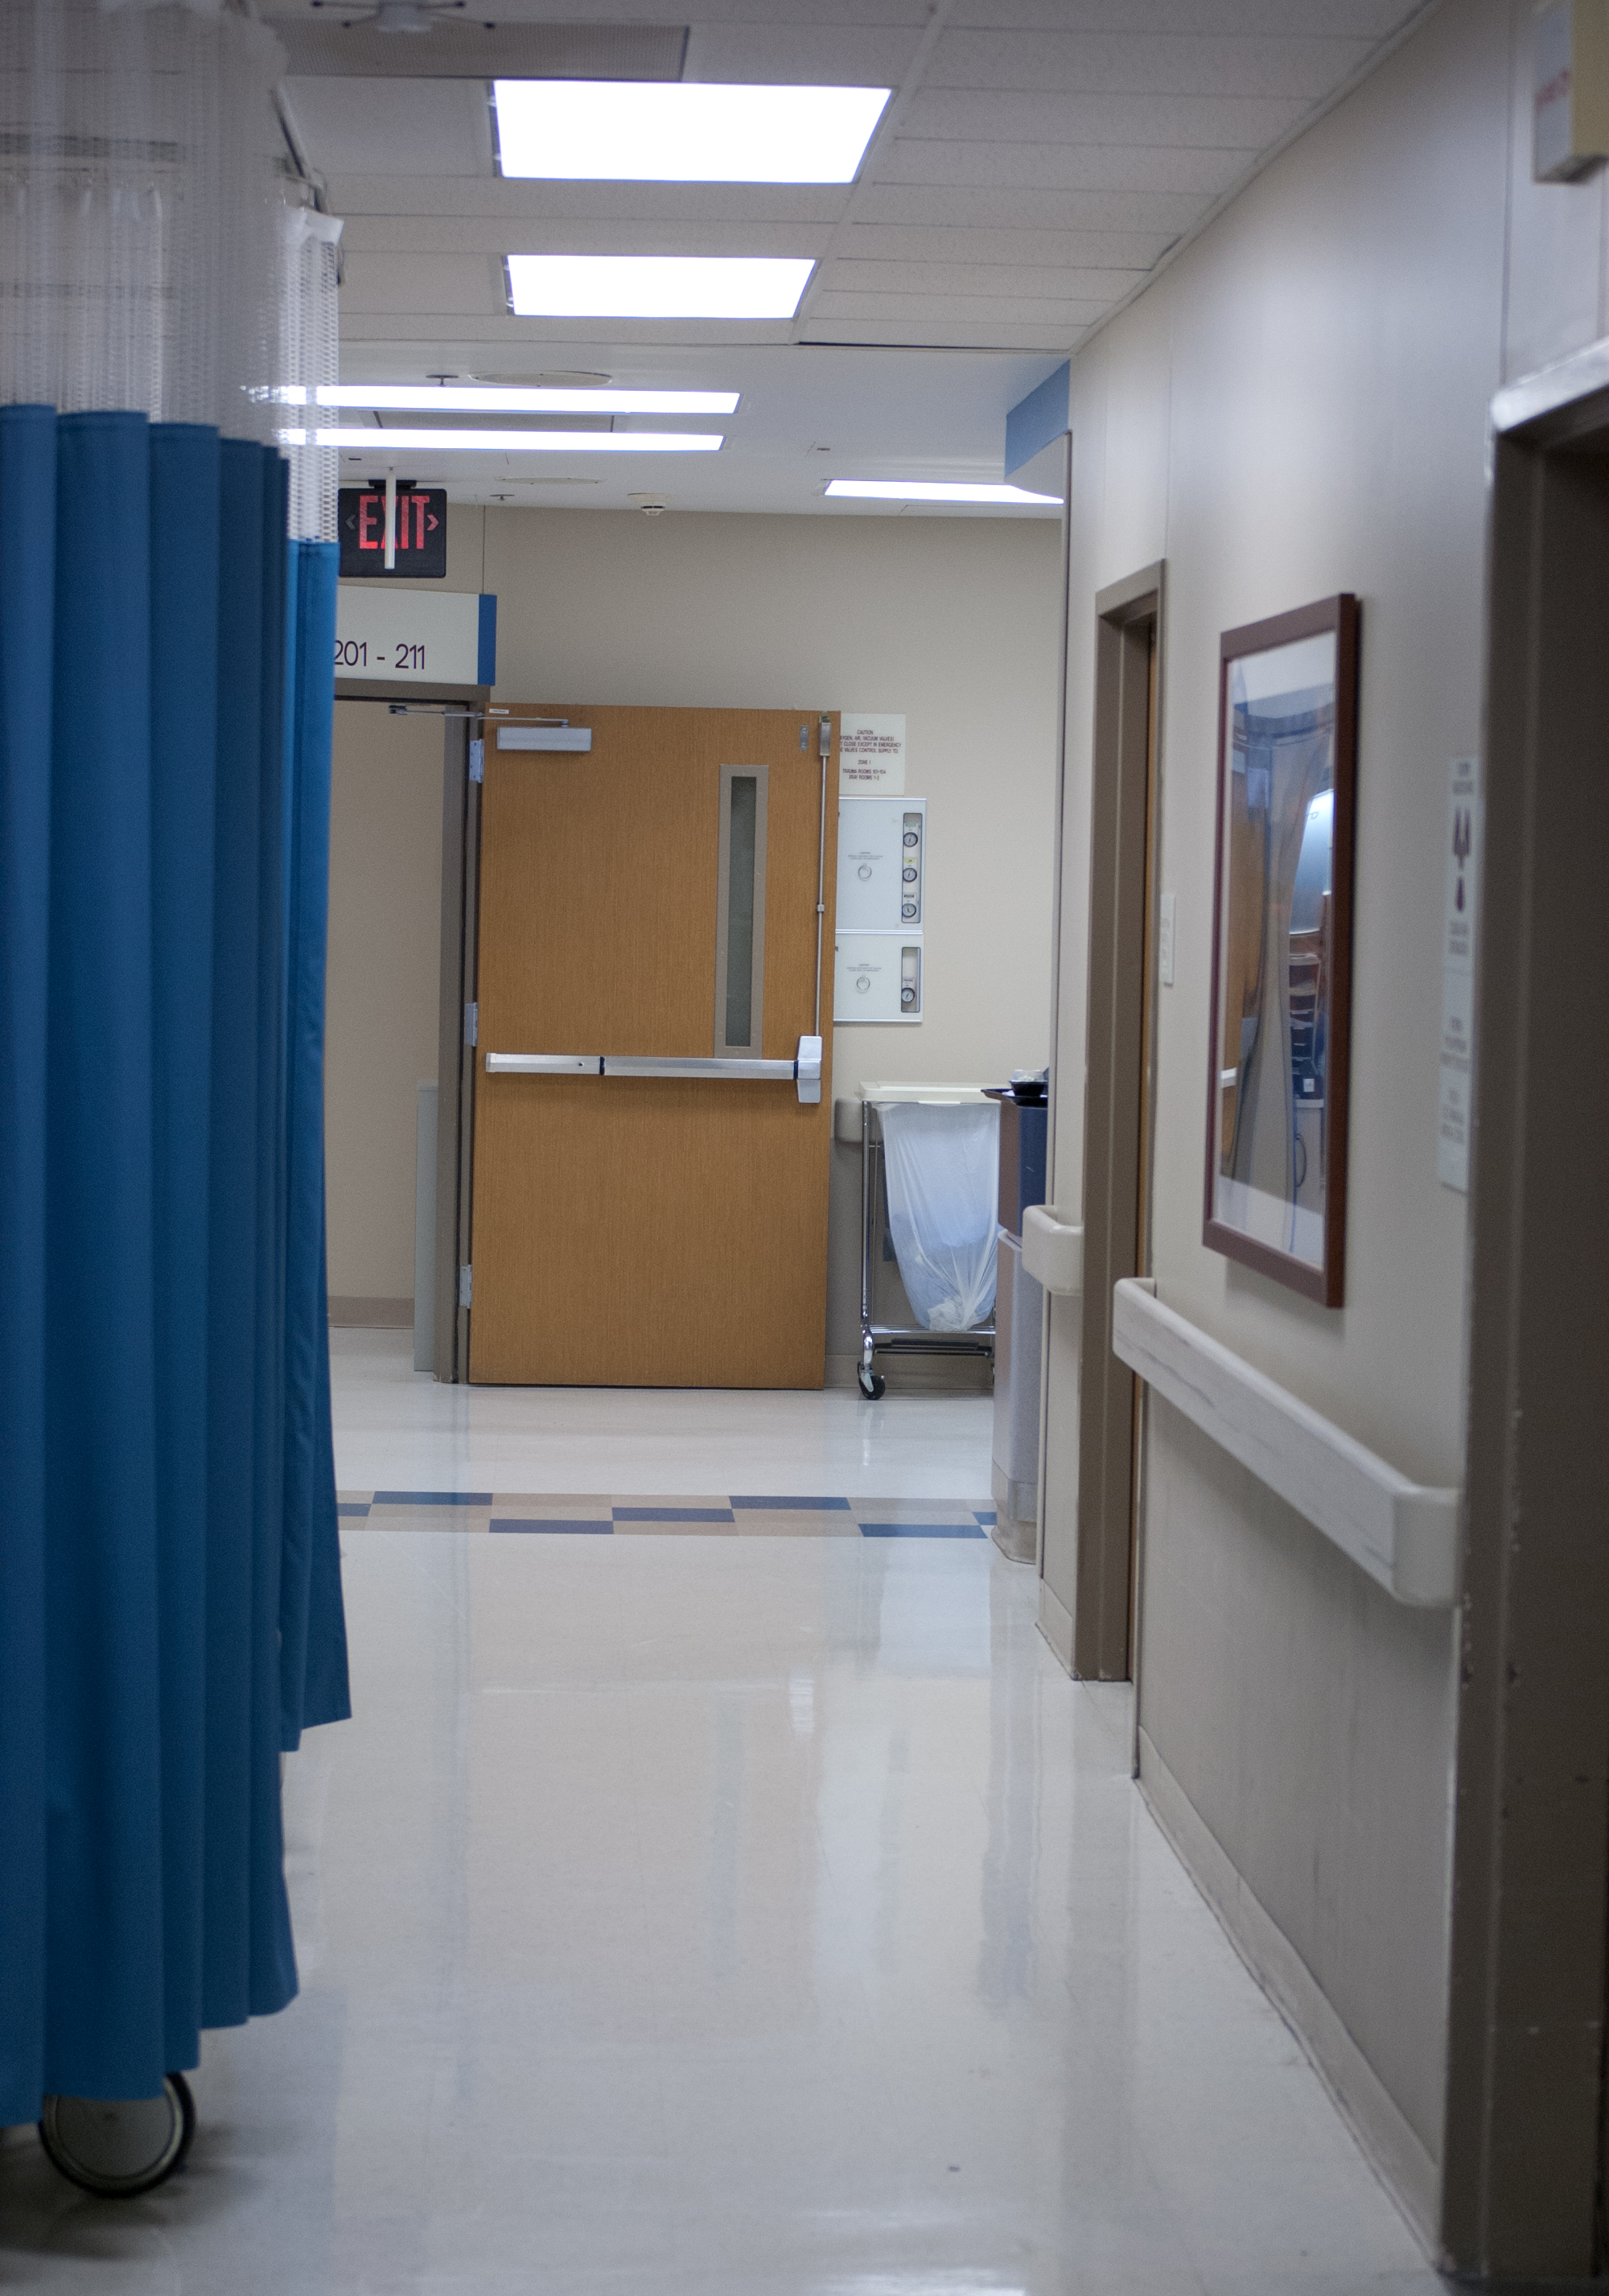curtain: (0, 0, 356, 2172)
hallway_assist_bar: (1112, 1275, 1468, 1607), (1021, 1204, 1084, 1295)
push_latch: (483, 1038, 827, 1085)
utility_cart: (857, 1080, 1000, 1399)
